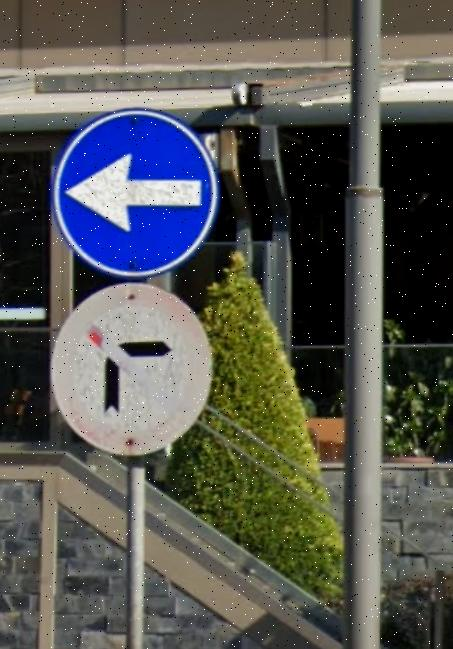rightturnsareforbidden: (58, 281, 215, 453)
turnleft: (54, 104, 215, 277)
